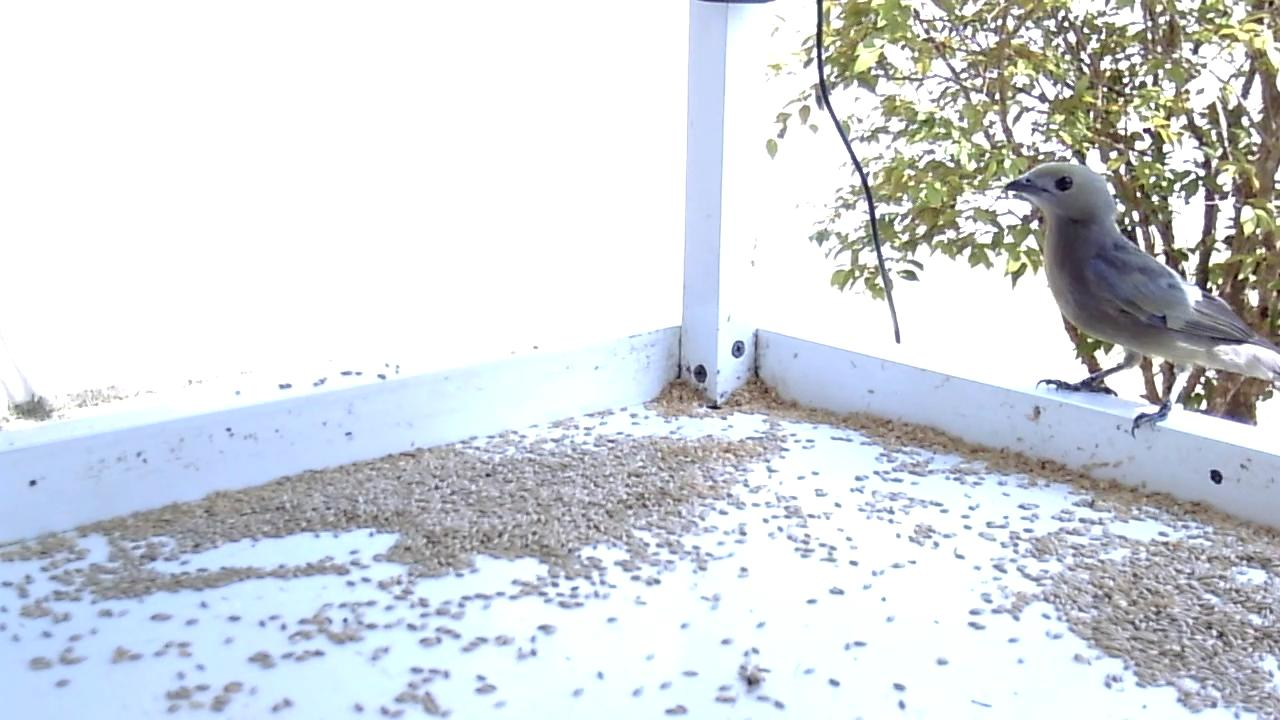sanhaco_do_coqueiro: (1003, 159, 1280, 444)
